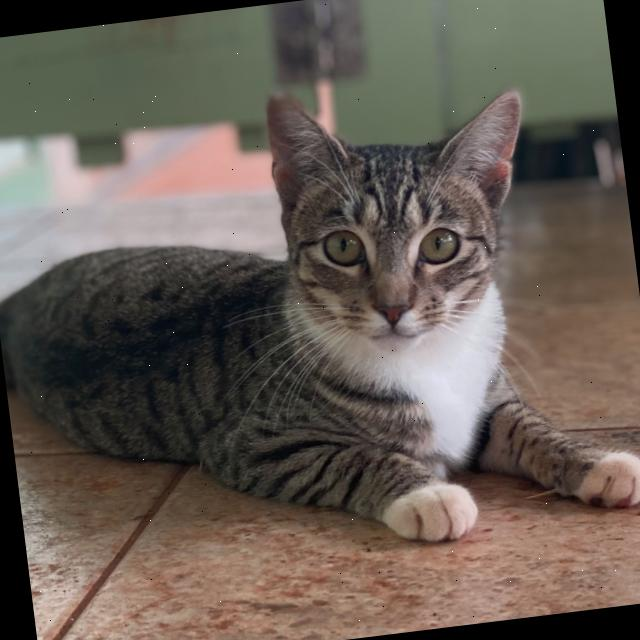domestic_short_hair_cat: (235, 43, 565, 385)
